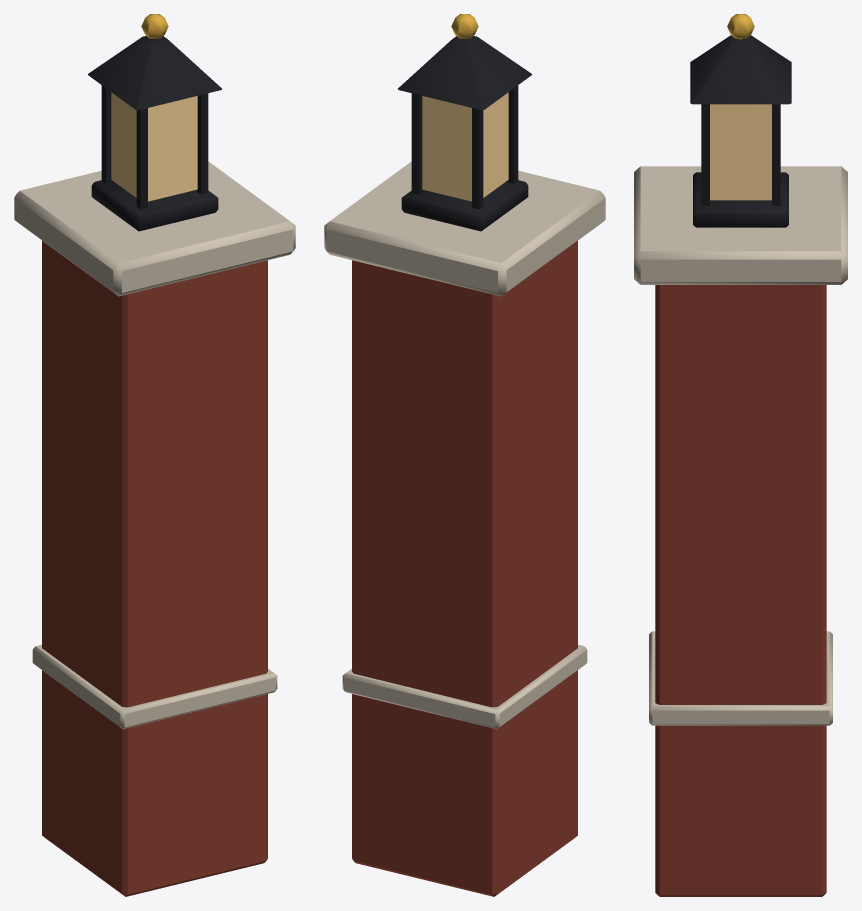
The model's file is Lobby_FencePost.fbx.
The picture shows the model from 3 angles, left to right: view 1: azimuth 30°, elevation 25°; view 2: azimuth 150°, elevation 25°; view 3: azimuth 270°, elevation 25°; orthographic projection.
Parts seen in each view (by area): view 1: Brick, Stone, Iron, Lantern; view 2: Brick, Stone, Iron, Lantern; view 3: Brick, Stone, Iron, Lantern, Gold.
Part boxes in pixels (<box>): Brick: <box>42,240,267,896</box>; Stone: <box>14,161,295,729</box>; Iron: <box>88,36,221,231</box>; Lantern: <box>111,92,197,201</box>; Brick: <box>352,240,577,896</box>; Stone: <box>324,161,605,729</box>; Iron: <box>398,36,531,231</box>; Lantern: <box>422,92,508,201</box>; Brick: <box>655,285,826,896</box>; Stone: <box>634,166,847,725</box>; Iron: <box>690,35,791,227</box>; Lantern: <box>710,104,771,200</box>; Gold: <box>727,14,754,39</box>.
Bounding box in the file's own units: 200 × 876 × 200.
